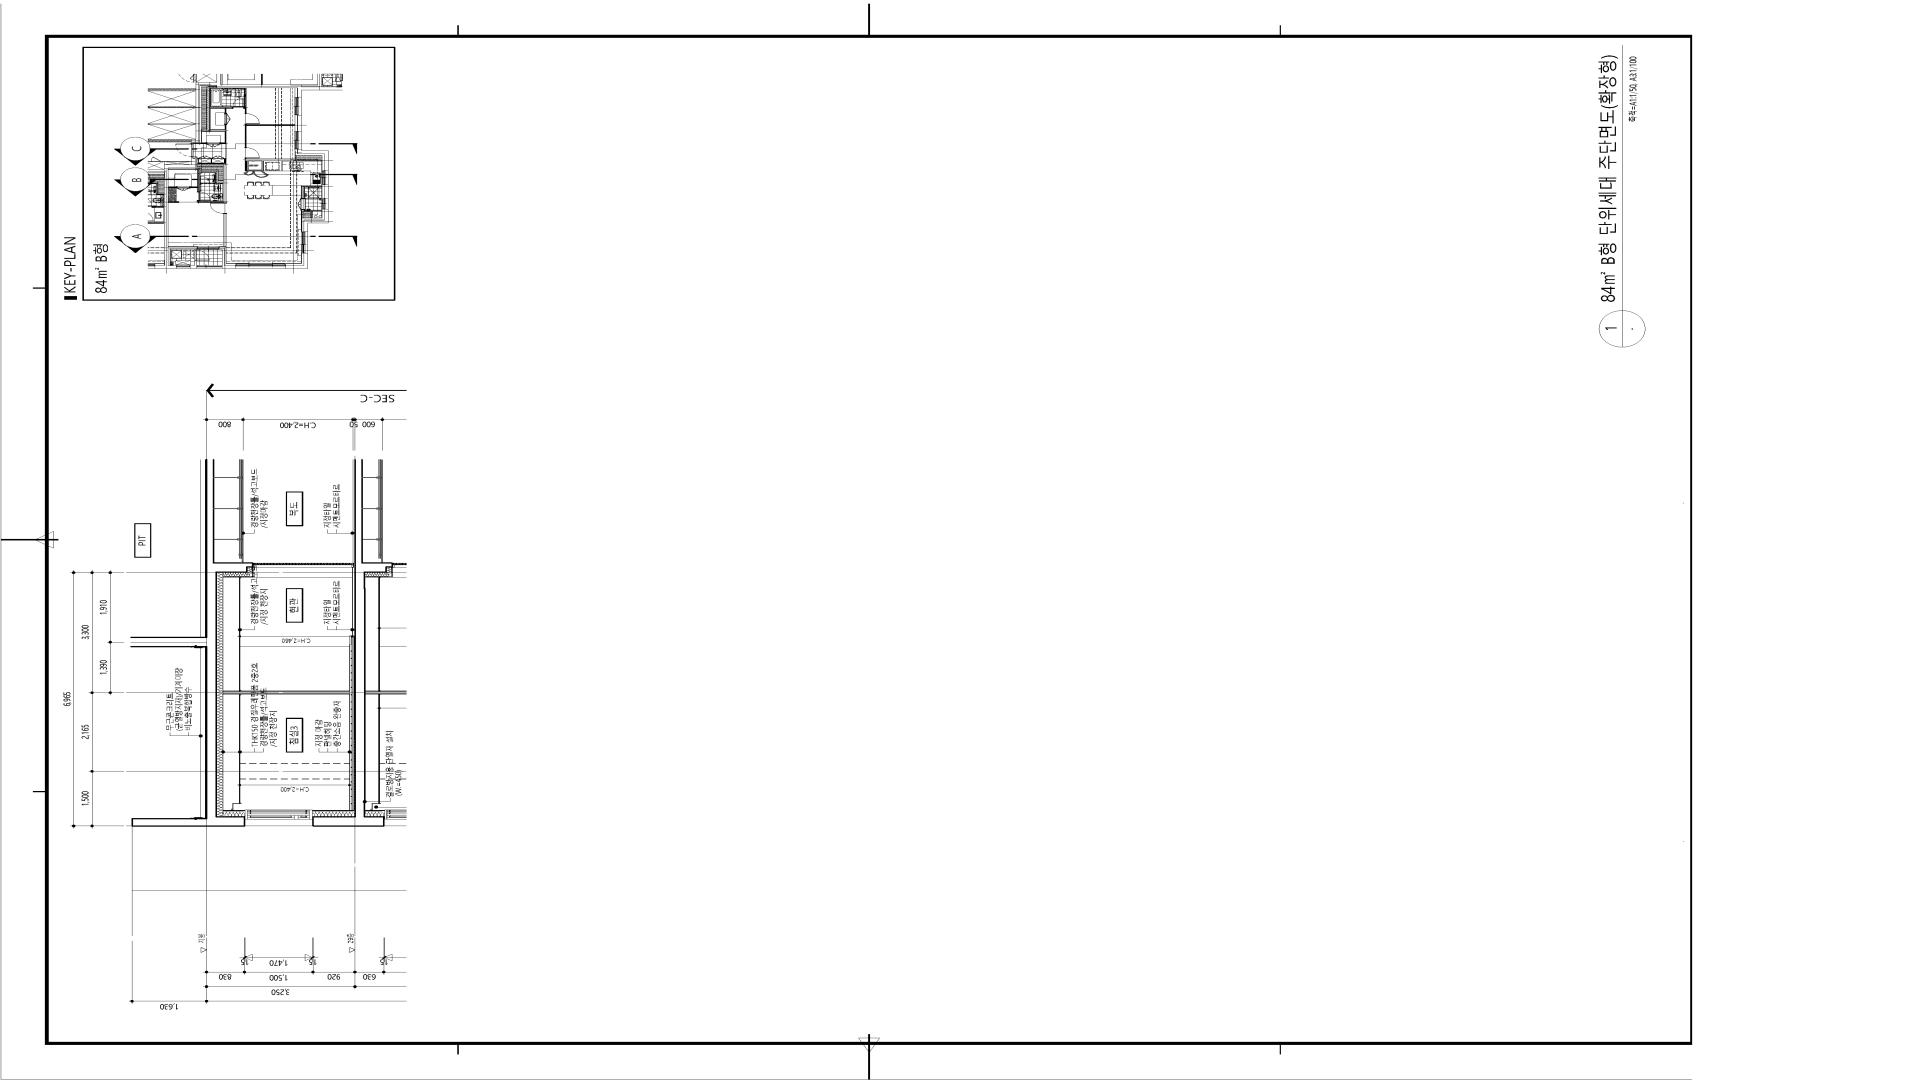background: (1, 0, 1920, 1080)
door: (253, 563, 355, 572)
wall: (313, 459, 365, 827), (204, 459, 253, 827), (223, 691, 349, 695)
window: (245, 810, 313, 827)
